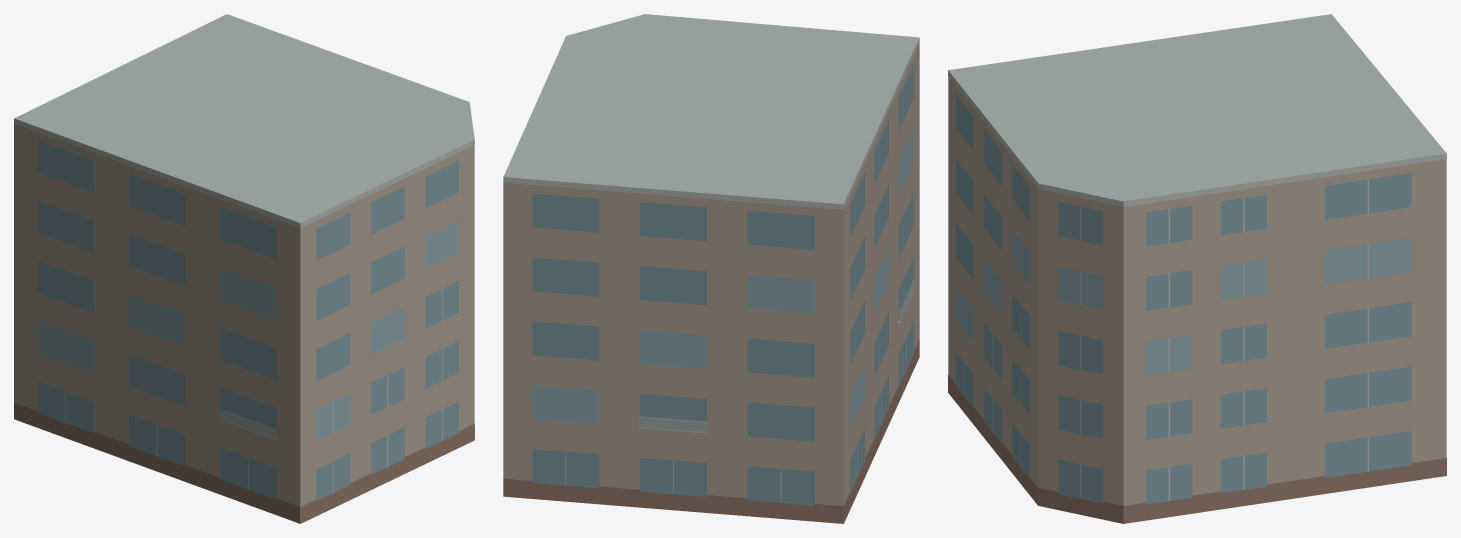
File: survey-upis-33014250.glb
The picture shows the model from 3 angles, left to right: view 1: azimuth 30°, elevation 25°; view 2: azimuth 150°, elevation 25°; view 3: azimuth 270°, elevation 25°; orthographic projection. The views are drawn at different scales.
Parts seen in each view (by area): view 1: survey-upis-33014250.tmp; view 2: survey-upis-33014250.tmp; view 3: survey-upis-33014250.tmp.
Part boxes in pixels (bbox=[...]): survey-upis-33014250.tmp: bbox=[14, 14, 474, 523]; survey-upis-33014250.tmp: bbox=[503, 14, 919, 523]; survey-upis-33014250.tmp: bbox=[948, 14, 1446, 523].
Bounding box in the file's own units: 17.47 × 14 × 19.63.
